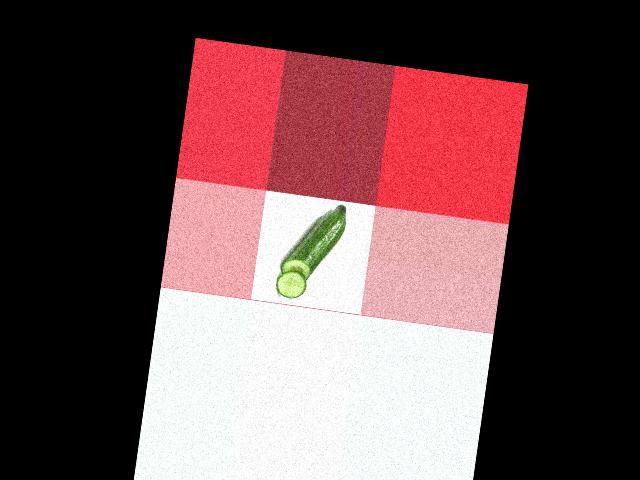cucumber: (279, 197, 347, 285)
